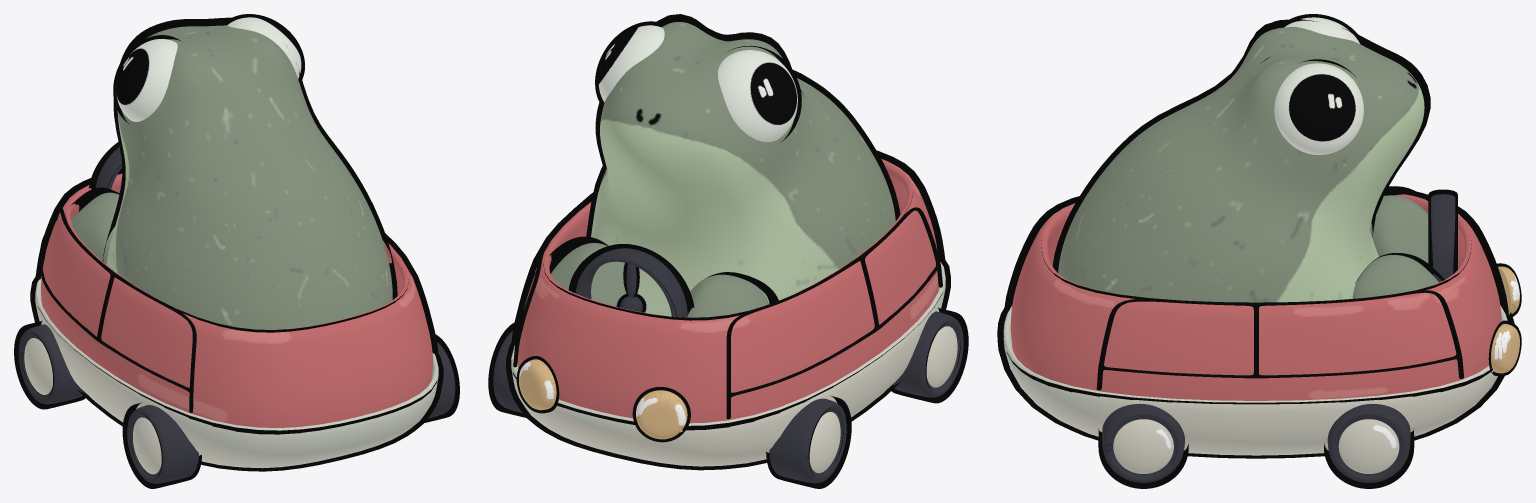
3 views of the same model, side by side, from view 1: azimuth 30°, elevation 25°; view 2: azimuth 150°, elevation 25°; view 3: azimuth 270°, elevation 25° (orthographic). The views are drawn at different scales.
Parts seen in each view (by area): view 1: frog, frog.001, body_cover, body.001, tire.001, body.004, eyes.001; view 2: frog, frog.001, body.001, body_cover, tire.001, body.004, handle.001, head lighht.001, eyes.001; view 3: frog, frog.001, body_cover, body.001, body.004, tire.001, handle.001, head lighht.001.
Boxes of the visible parts, left/top/right/bottom form: frog: left=18, top=17, right=455, bottom=483; frog.001: left=43, top=17, right=397, bottom=299; body_cover: left=30, top=277, right=443, bottom=471; body.001: left=37, top=206, right=435, bottom=412; tire.001: left=14, top=321, right=459, bottom=488; body.004: left=35, top=168, right=438, bottom=368; eyes.001: left=113, top=14, right=304, bottom=123; frog: left=493, top=22, right=963, bottom=483; frog.001: left=520, top=14, right=900, bottom=322; body.001: left=513, top=192, right=942, bottom=419; body_cover: left=506, top=260, right=950, bottom=470; tire.001: left=488, top=307, right=968, bottom=488; body.004: left=510, top=150, right=946, bottom=361; handle.001: left=568, top=244, right=694, bottom=316; head lighht.001: left=516, top=356, right=690, bottom=442; eyes.001: left=595, top=21, right=801, bottom=142; frog: left=1003, top=17, right=1519, bottom=482; frog.001: left=1052, top=19, right=1444, bottom=298; body_cover: left=997, top=308, right=1514, bottom=458; body.001: left=1096, top=186, right=1463, bottom=390; body.004: left=1003, top=192, right=1509, bottom=336; tire.001: left=1098, top=415, right=1414, bottom=488; handle.001: left=1428, top=189, right=1457, bottom=274; head lighht.001: left=1488, top=263, right=1521, bottom=376.
Bounding box in the file's own units: 0.816 × 0.93 × 1.17.
3 materials, 1 textured.
